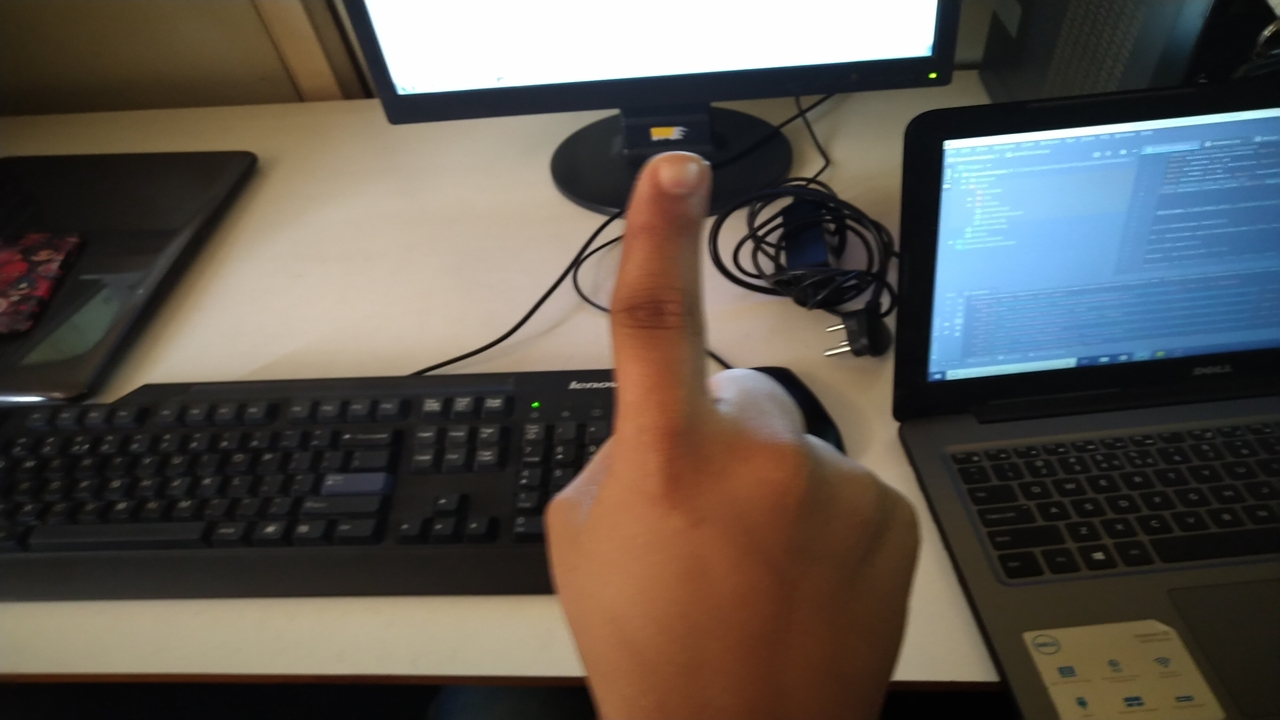fingertip: (630, 148, 718, 222)
